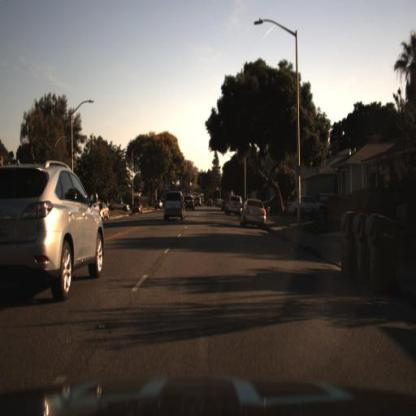car: (1, 162, 105, 299), (284, 194, 328, 217), (238, 197, 269, 228), (163, 191, 187, 223), (227, 194, 245, 217), (111, 195, 130, 215), (181, 193, 196, 214), (110, 198, 128, 214), (129, 202, 145, 218), (131, 201, 143, 219), (154, 196, 164, 213), (206, 199, 215, 208)
